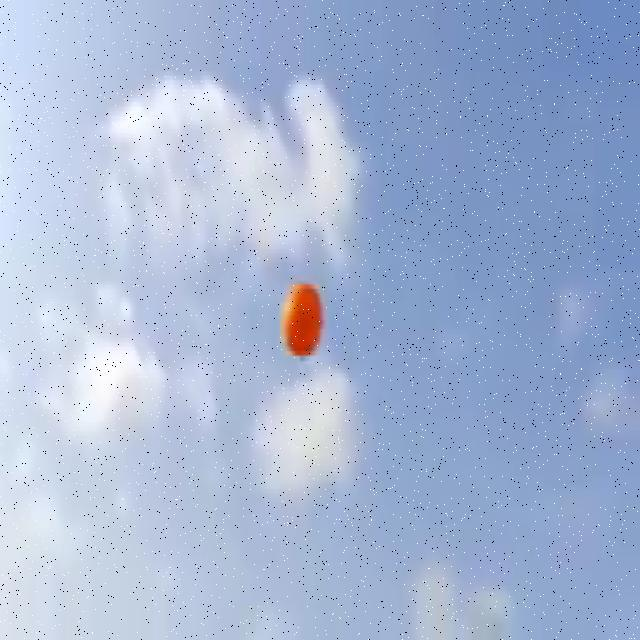red: (280, 282, 324, 357)
